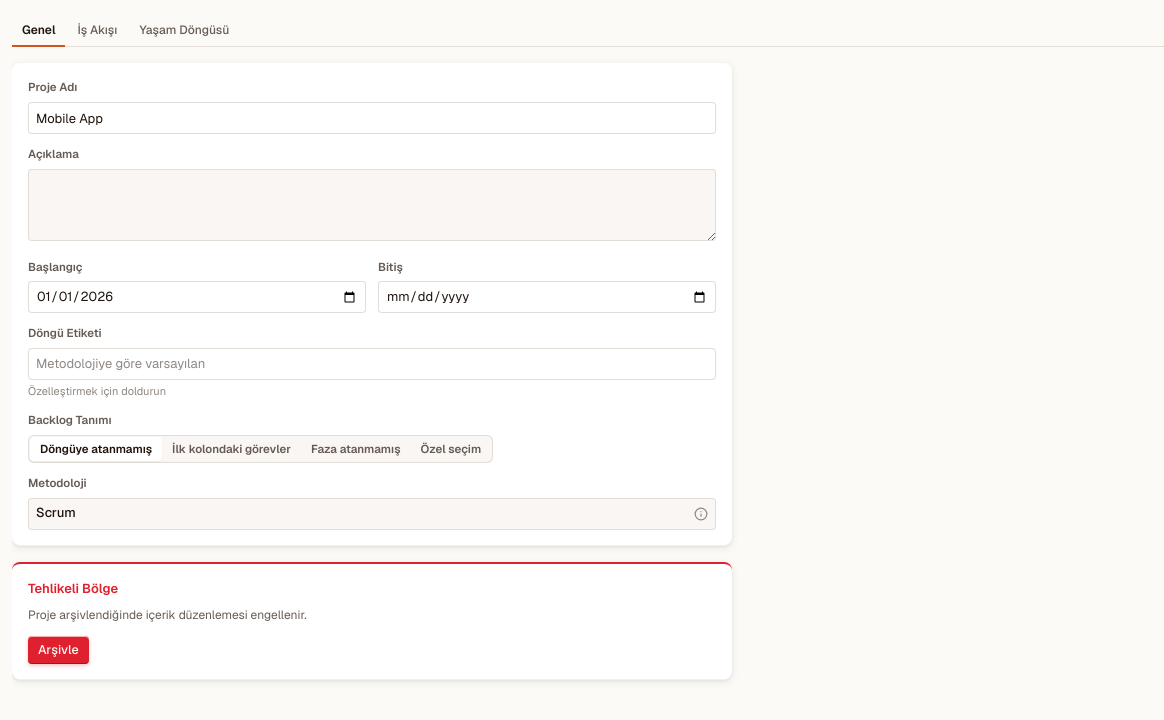
Test: SettingsTab › renders the CriteriaEditorPanel on the Yaşam Döngüsü sub-tab (replaces the Faz 12 stub)
The width and height of the screenshot is (1164, 720).
Click the button "Yaşam Döngüsü" at x=184, y=32, box x1=129 y1=16 x2=239 y2=47
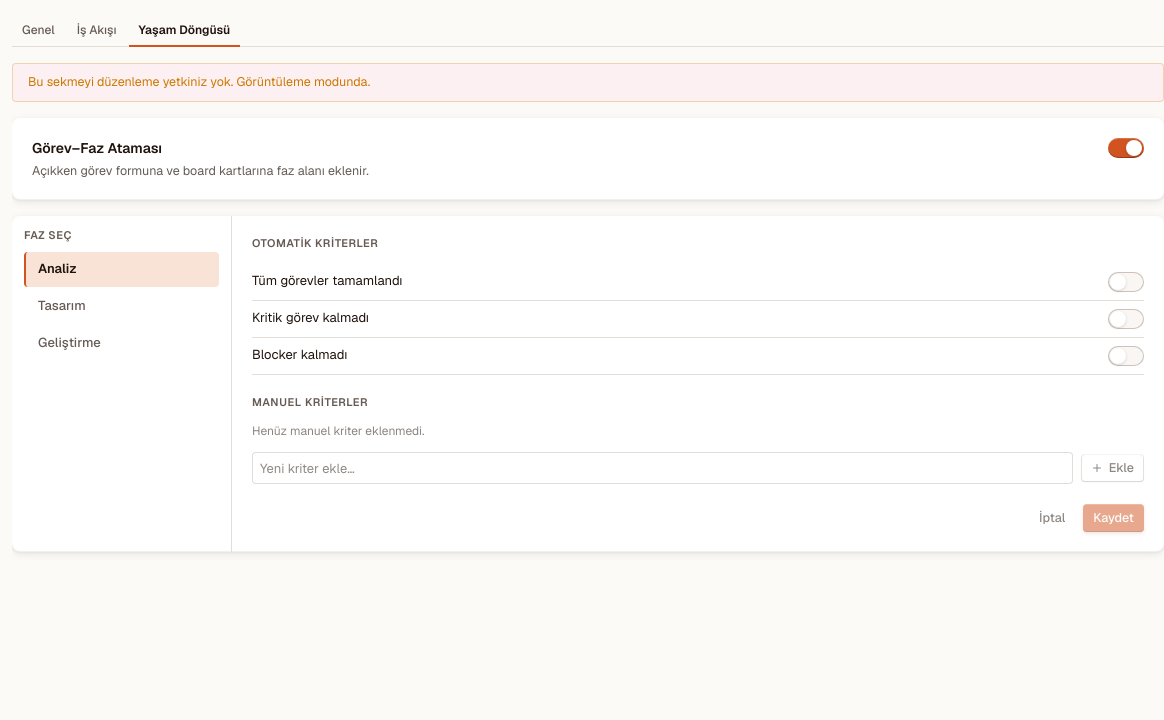
Now the heading "Görev–Faz Ataması" is shown, box x1=32 y1=138 x2=162 y2=156
Now the text "Faz Seç" is shown, box x1=24 y1=228 x2=72 y2=242
